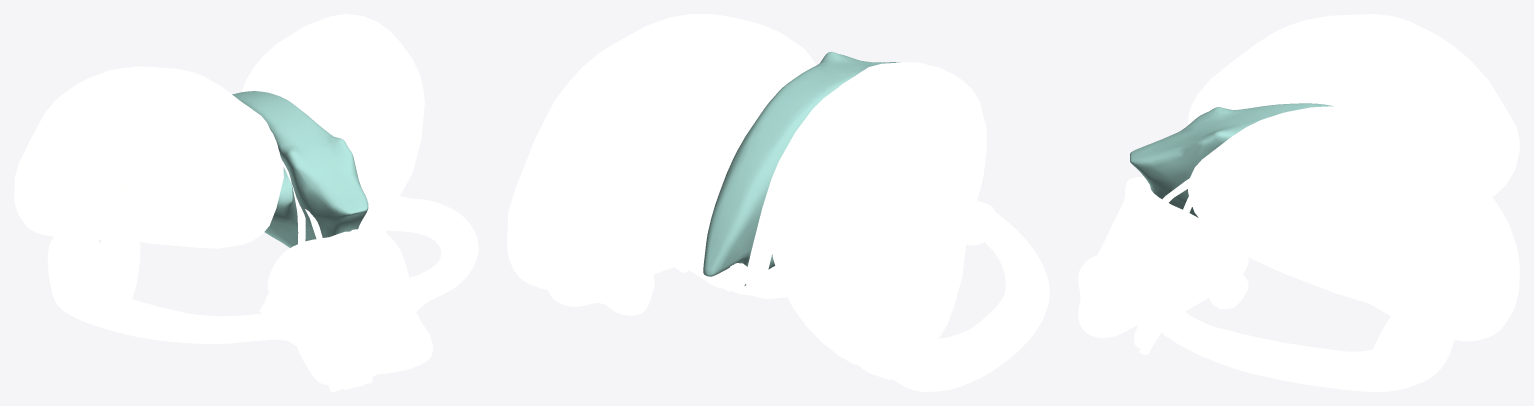
File: diencephalon.glb
3 renders of one model, left to right at view 1: azimuth 30°, elevation 25°; view 2: azimuth 150°, elevation 25°; view 3: azimuth 270°, elevation 25°, orthographic. The views are drawn at different scales.
Visible parts, largest first — view 1: Thalamus.r, Thalamus.l, Hypothalamus, Optic tract.r, Third ventricle, Optic tract.l, Optic chiasm.r, Optic chiasm.l, Lateral geniculate body.r, Medial geniculate body.r, Stria medullaris thalami.r, Stria medullaris thalami.l; view 2: Thalamus.l, Thalamus.r, Third ventricle, Optic tract.r, Stria medullaris thalami.r, Lateral geniculate body.r, Medial geniculate body.l, Stria medullaris thalami.l, Posterior commissure, Habenula, Optic tract.l, Lateral geniculate body.l; view 3: Thalamus.l, Thalamus.r, Hypothalamus, Optic tract.l, Third ventricle, Optic chiasm.l, Stria medullaris thalami.r, Lateral geniculate body.l, Mamillary body.l, Stria medullaris thalami.l.
Part boxes in pixels (x1,y1,x2,y2): Thalamus.r: (14,66,283,248); Thalamus.l: (242,14,424,214); Hypothalamus: (259,227,409,391); Optic tract.r: (47,248,305,346); Third ventricle: (232,91,368,247); Optic tract.l: (359,195,478,311); Optic chiasm.r: (297,320,380,385); Optic chiasm.l: (378,301,432,373); Lateral geniculate body.r: (48,236,99,282); Medial geniculate body.r: (99,239,140,298); Stria medullaris thalami.r: (244,104,322,244); Stria medullaris thalami.l: (357,171,386,233); Thalamus.l: (507,14,816,292); Thalamus.r: (770,62,986,369); Third ventricle: (703,52,899,285); Optic tract.r: (864,201,1049,391); Stria medullaris thalami.r: (745,90,834,289); Lateral geniculate body.r: (882,347,960,391); Medial geniculate body.l: (601,274,654,310); Stria medullaris thalami.l: (660,206,689,272); Posterior commissure: (689,251,787,298); Habenula: (699,255,772,291); Optic tract.l: (548,290,652,315); Lateral geniculate body.l: (548,289,601,306); Thalamus.l: (1188,106,1519,341); Thalamus.r: (1188,14,1519,196); Hypothalamus: (1080,176,1242,354); Optic tract.l: (1126,279,1447,391); Third ventricle: (1130,103,1333,217); Optic chiasm.l: (1078,285,1146,337); Stria medullaris thalami.r: (1277,98,1472,172); Lateral geniculate body.l: (1390,324,1453,383); Mamillary body.l: (1209,269,1248,309); Stria medullaris thalami.l: (1150,178,1208,234).
Bounding box in the file's own units: 0.0494 × 0.0326 × 0.0471.
